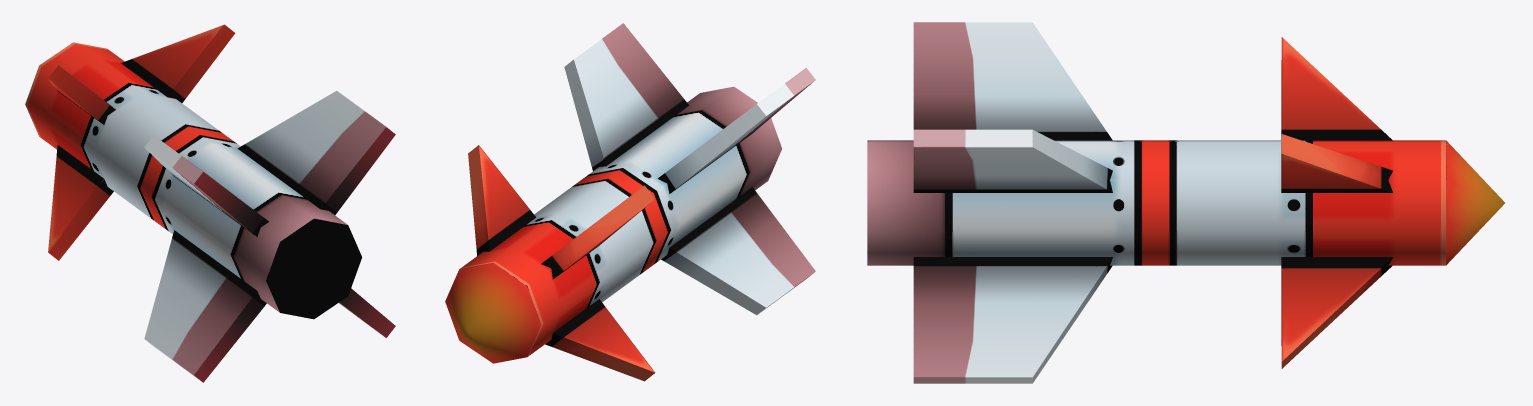
File: missile_01.FBX
The picture shows the model from 3 angles, left to right: view 1: azimuth 30°, elevation 25°; view 2: azimuth 150°, elevation 25°; view 3: azimuth 270°, elevation 25°; orthographic projection. The views are drawn at different scales.
Visible parts, largest first — view 1: Cylinder014; view 2: Cylinder014; view 3: Cylinder014.
Part boxes in pixels (x1,y1,x2,y2): Cylinder014: [25, 24, 395, 382]; Cylinder014: [445, 23, 815, 381]; Cylinder014: [867, 22, 1504, 383].
Bounding box in the file's own units: 10.41 × 10.41 × 23.18.
1 material, 1 textured.
